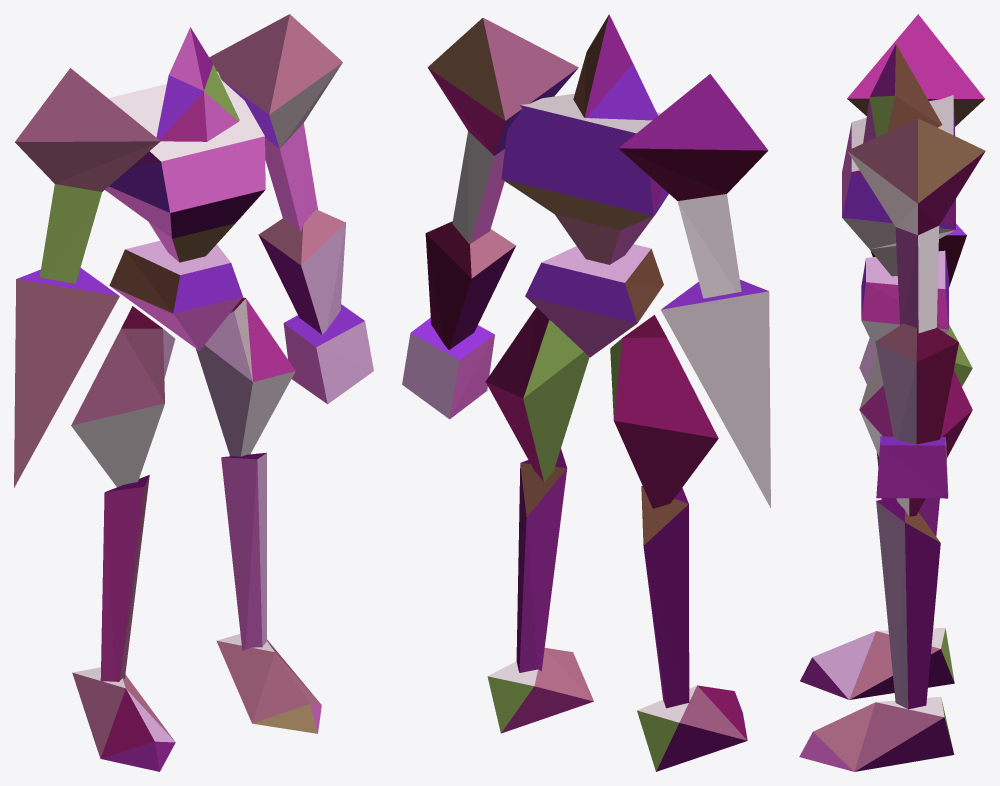
File: samuspoly.obj
3 renders of one model, left to right at view 1: azimuth 30°, elevation 25°; view 2: azimuth 150°, elevation 25°; view 3: azimuth 270°, elevation 25°, orthographic. The views are drawn at different scales.
Visible parts, largest first — view 1: Nemu_60999451_0_018, Nemu_60999451_0_023, Nemu_60999451_0_019, Nemu_60999451_0_024, Nemu_60999451_0_028, Nemu_60999451_0_025, Nemu_60999451_0_017, Nemu_60999451_0_026, Nemu_60999451_0_020, Nemu_60999451_0_029, Nemu_60999451_0_030, Nemu_60999451_0_027 (+2 smaller); view 2: Nemu_60999451_0_018, Nemu_60999451_0_023, Nemu_60999451_0_019, Nemu_60999451_0_024, Nemu_60999451_0_028, Nemu_60999451_0_025, Nemu_60999451_0_017, Nemu_60999451_0_029, Nemu_60999451_0_026, Nemu_60999451_0_020, Nemu_60999451_0_030, Nemu_60999451_0_021 (+2 smaller); view 3: Nemu_60999451_0_019, Nemu_60999451_0_026, Nemu_60999451_0_027, Nemu_60999451_0_020, Nemu_60999451_0_030, Nemu_60999451_0_023, Nemu_60999451_0_018, Nemu_60999451_0_021, Nemu_60999451_0_022, Nemu_60999451_0_017, Nemu_60999451_0_025, Nemu_60999451_0_028 (+2 smaller).
Part boxes in pixels (bbox=[...]): Nemu_60999451_0_018: bbox=[105, 71, 265, 262]; Nemu_60999451_0_023: bbox=[15, 68, 160, 283]; Nemu_60999451_0_019: bbox=[209, 14, 342, 232]; Nemu_60999451_0_024: bbox=[14, 267, 119, 487]; Nemu_60999451_0_028: bbox=[71, 306, 175, 487]; Nemu_60999451_0_025: bbox=[196, 297, 295, 456]; Nemu_60999451_0_017: bbox=[109, 240, 242, 350]; Nemu_60999451_0_026: bbox=[221, 452, 266, 650]; Nemu_60999451_0_020: bbox=[258, 209, 345, 334]; Nemu_60999451_0_029: bbox=[100, 475, 149, 681]; Nemu_60999451_0_030: bbox=[72, 667, 175, 771]; Nemu_60999451_0_027: bbox=[216, 634, 321, 733]; Nemu_60999451_0_018: bbox=[501, 93, 668, 264]; Nemu_60999451_0_023: bbox=[618, 74, 768, 298]; Nemu_60999451_0_019: bbox=[427, 18, 578, 243]; Nemu_60999451_0_024: bbox=[661, 279, 770, 507]; Nemu_60999451_0_028: bbox=[610, 315, 718, 508]; Nemu_60999451_0_025: bbox=[485, 307, 589, 481]; Nemu_60999451_0_017: bbox=[525, 244, 663, 357]; Nemu_60999451_0_029: bbox=[641, 486, 689, 708]; Nemu_60999451_0_026: bbox=[516, 449, 567, 672]; Nemu_60999451_0_020: bbox=[425, 221, 515, 349]; Nemu_60999451_0_030: bbox=[637, 685, 747, 771]; Nemu_60999451_0_021: bbox=[402, 318, 494, 419]; Nemu_60999451_0_019: bbox=[847, 118, 985, 333]; Nemu_60999451_0_026: bbox=[876, 498, 940, 709]; Nemu_60999451_0_027: bbox=[799, 696, 954, 771]; Nemu_60999451_0_020: bbox=[875, 323, 958, 444]; Nemu_60999451_0_030: bbox=[800, 627, 954, 699]; Nemu_60999451_0_023: bbox=[847, 14, 984, 126]; Nemu_60999451_0_018: bbox=[842, 95, 955, 276]; Nemu_60999451_0_021: bbox=[876, 436, 948, 498]; Nemu_60999451_0_022: bbox=[863, 44, 942, 143]; Nemu_60999451_0_017: bbox=[861, 250, 948, 351]; Nemu_60999451_0_025: bbox=[859, 352, 972, 516]; Nemu_60999451_0_028: bbox=[859, 324, 972, 386].
Size of the model in its own units: 0.3202 by 0.6215 by 0.1555.
